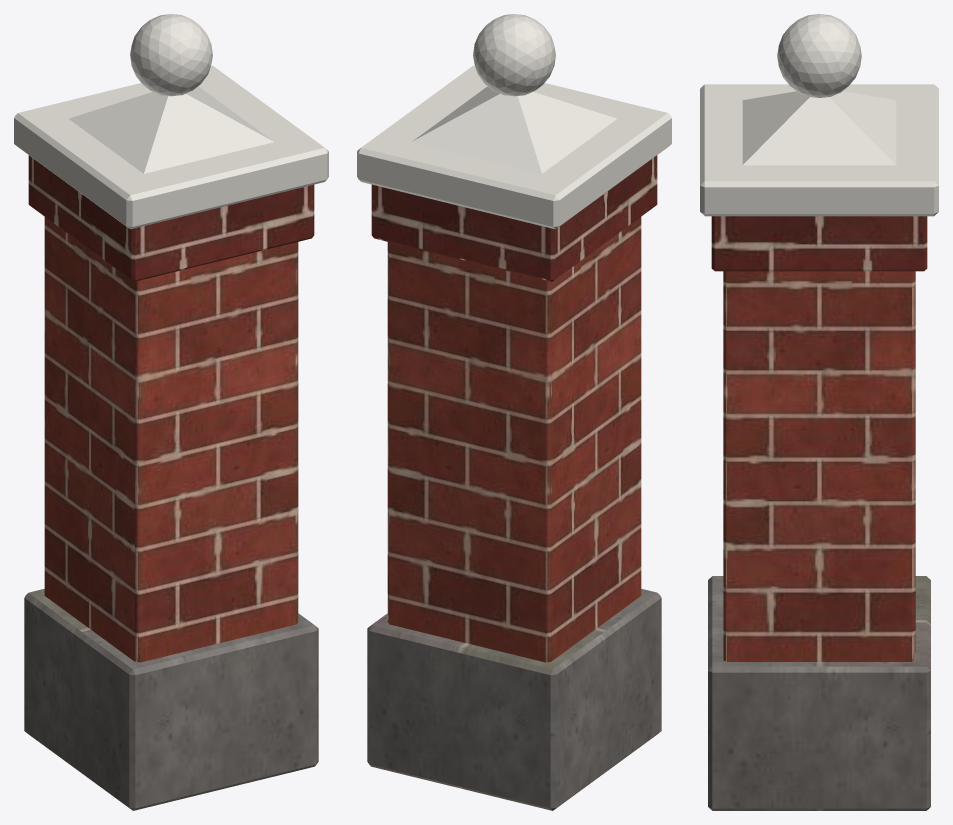
The model's file is yard_pier.glb.
3 views of the same model, side by side, from view 1: azimuth 30°, elevation 25°; view 2: azimuth 150°, elevation 25°; view 3: azimuth 270°, elevation 25° (orthographic). The views are drawn at different scales.
Visible parts, largest first — view 1: yard_pier_brick, yard_pier_plinth, yard_pier_coping, yard_pier_brick2; view 2: yard_pier_brick, yard_pier_plinth, yard_pier_coping, yard_pier_brick2; view 3: yard_pier_brick, yard_pier_coping, yard_pier_plinth, yard_pier_brick2.
Boxes of the visible parts, bbox=[...] form: yard_pier_brick: bbox=[44, 217, 298, 662]; yard_pier_plinth: bbox=[24, 589, 318, 810]; yard_pier_coping: bbox=[14, 14, 328, 229]; yard_pier_brick2: bbox=[28, 155, 314, 281]; yard_pier_brick: bbox=[387, 217, 641, 662]; yard_pier_plinth: bbox=[367, 589, 661, 810]; yard_pier_coping: bbox=[357, 14, 671, 229]; yard_pier_brick2: bbox=[371, 155, 657, 281]; yard_pier_brick: bbox=[723, 271, 915, 661]; yard_pier_coping: bbox=[700, 14, 938, 216]; yard_pier_plinth: bbox=[708, 576, 930, 810]; yard_pier_brick2: bbox=[711, 216, 927, 271].
Bounding box in the file's own units: 0.62 × 2.14 × 0.62.
Materials: 4 (3 with a texture image).
